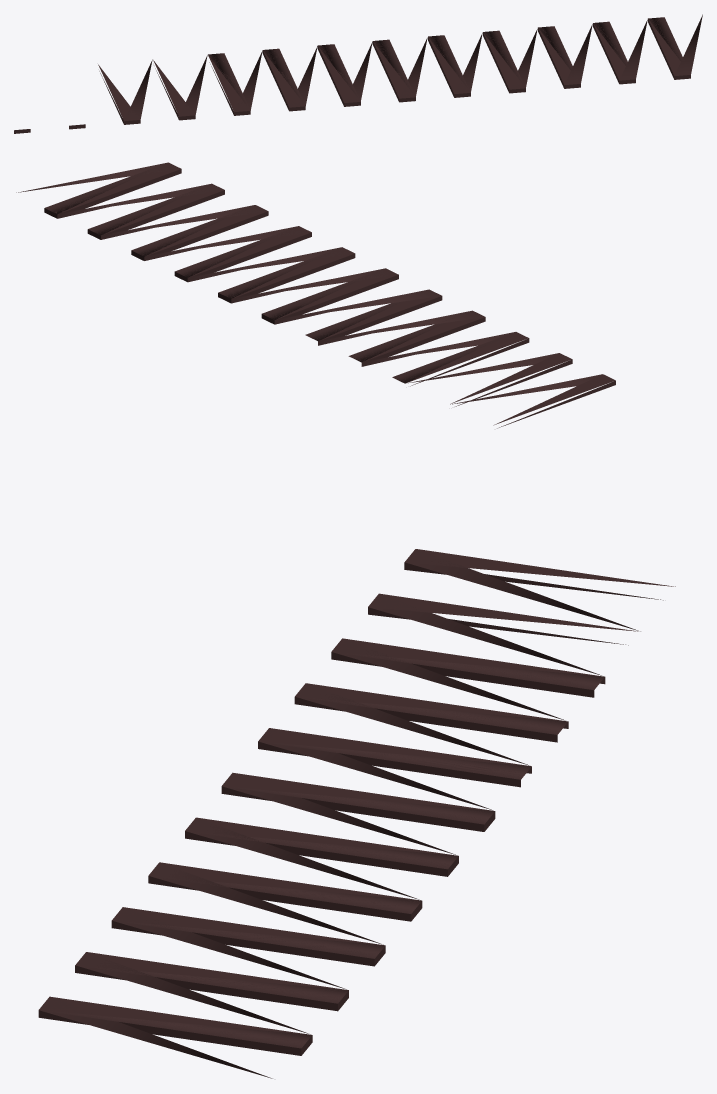
3 renders of one model, top to bottom at view 1: azimuth 30°, elevation 25°; view 2: azimuth 150°, elevation 25°; view 3: azimuth 270°, elevation 25°, orthographic. The views are drawn at different scales.
Size of the model in its own units: 11.26 by 0.064 by 4.91.
